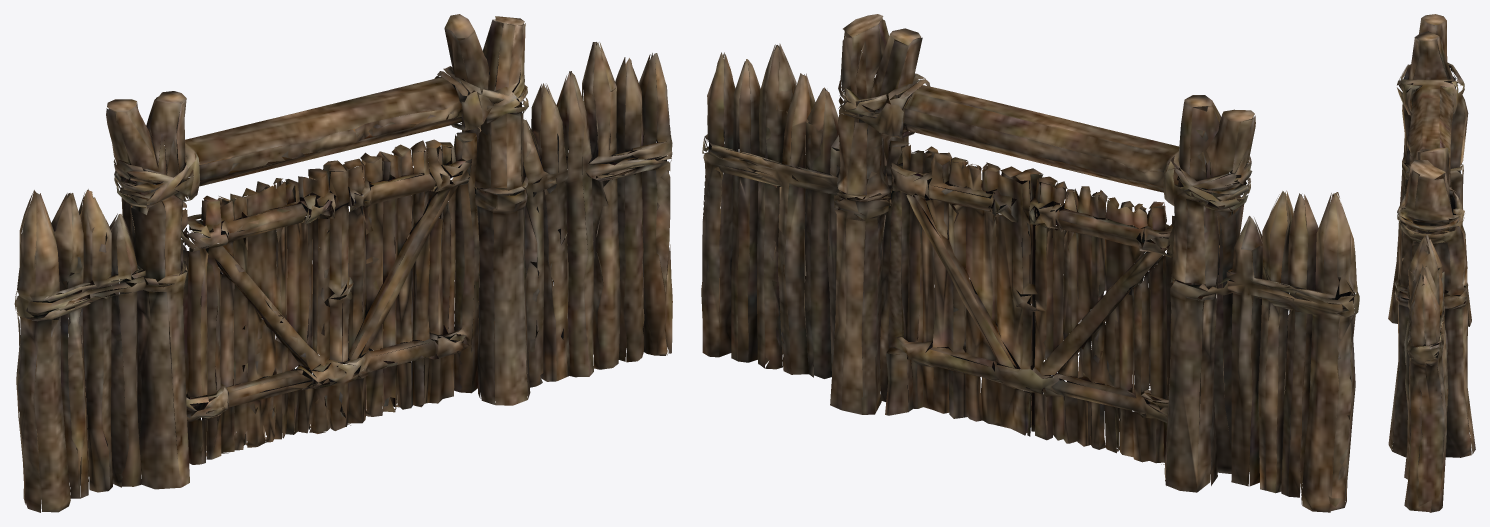
File: woodgate_far.glb
3 views of the same model, side by side, from view 1: azimuth 30°, elevation 25°; view 2: azimuth 150°, elevation 25°; view 3: azimuth 270°, elevation 25° (orthographic). The views are drawn at different scales.
Visible parts, largest first — view 1: model; view 2: model; view 3: model.
Part boxes in pixels (left/top/right/bottom): model: left=14, top=14, right=672, bottom=512; model: left=701, top=14, right=1359, bottom=512; model: left=1388, top=14, right=1475, bottom=512.
Size of the model in its own units: 1 by 0.5533 by 0.1492.
Materials: 1 (1 with a texture image).
